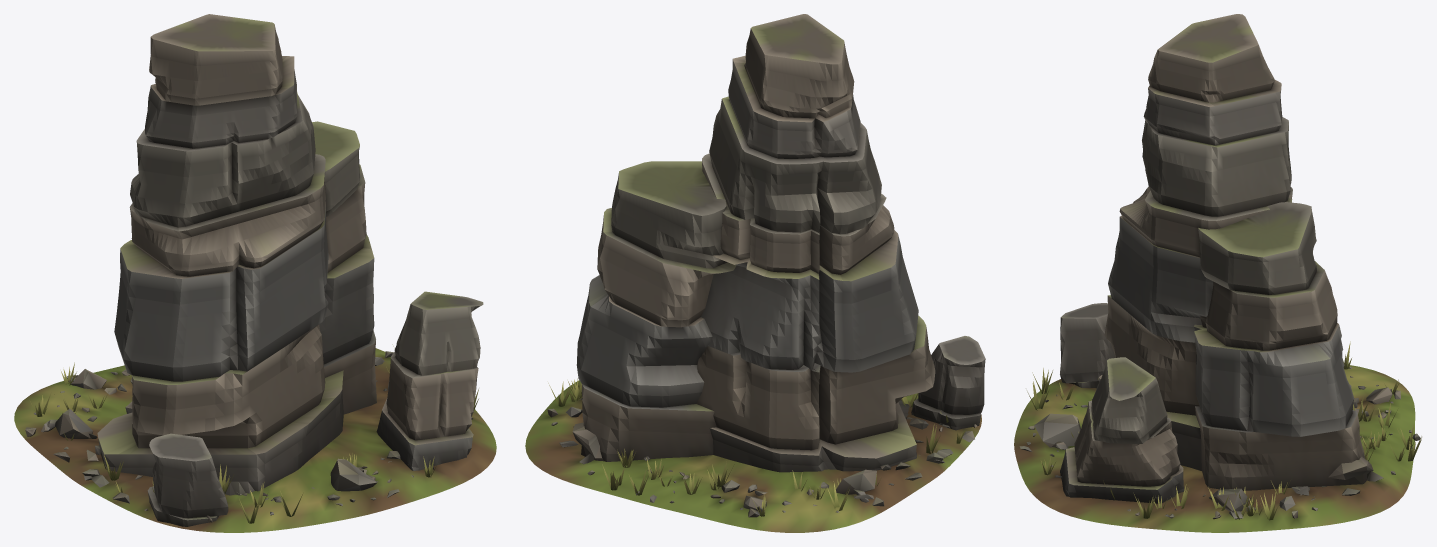
Rendered from rock.glb.
3 views of the same model, side by side, from view 1: azimuth 30°, elevation 25°; view 2: azimuth 150°, elevation 25°; view 3: azimuth 270°, elevation 25° (orthographic). The views are drawn at different scales.
Visible parts, largest first — view 1: rock; view 2: rock; view 3: rock.
Boxes of the visible parts, x1,y1,x2,y2 form: rock: [14, 14, 496, 532]; rock: [525, 14, 985, 532]; rock: [1014, 14, 1421, 532].
Size of the model in its own units: 0.971 by 1 by 0.9597.
